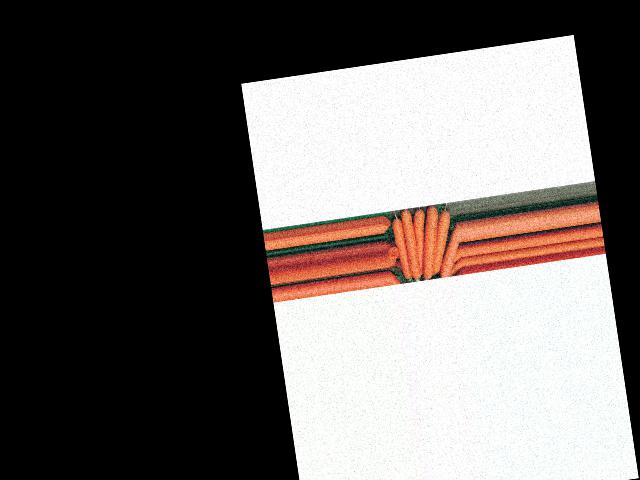carrot: (412, 202, 444, 279)
